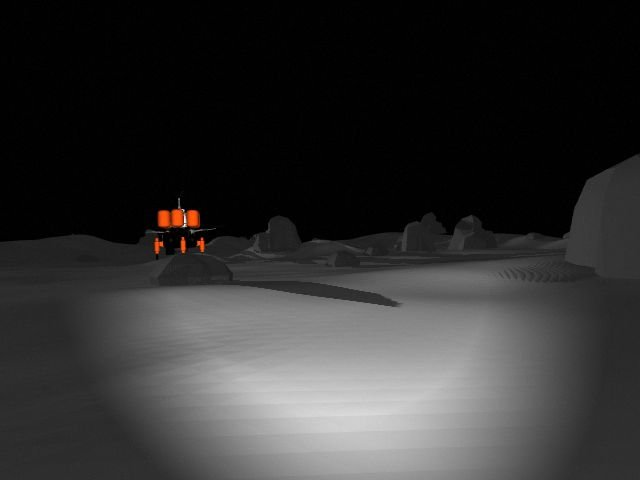homebase: (134, 193, 222, 261)
